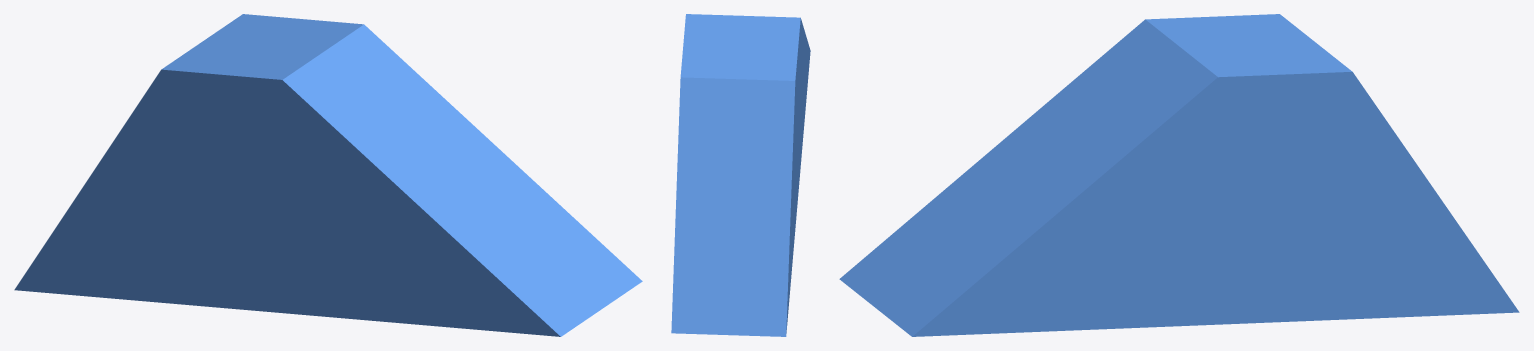
File: trapezoid.glb
The picture shows the model from 3 angles, left to right: view 1: azimuth 30°, elevation 25°; view 2: azimuth 150°, elevation 25°; view 3: azimuth 270°, elevation 25°; orthographic projection. The views are drawn at different scales.
Visible parts, largest first — view 1: corner_shelf_02; view 2: corner_shelf_02; view 3: corner_shelf_02.
Boxes of the visible parts, left/top/right/bottom form: corner_shelf_02: left=14, top=14, right=642, bottom=336; corner_shelf_02: left=671, top=14, right=810, bottom=336; corner_shelf_02: left=839, top=14, right=1519, bottom=336.
Bounding box in the file's own units: 3.85 × 2.82 × 5.78.
